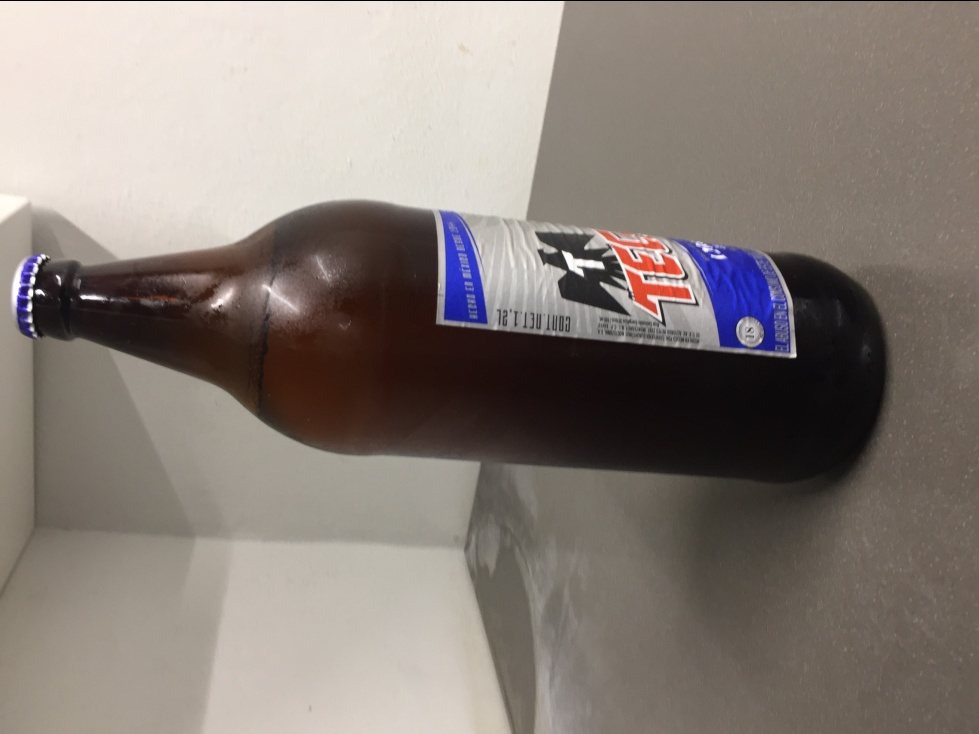tecateC: (25, 182, 886, 495)
